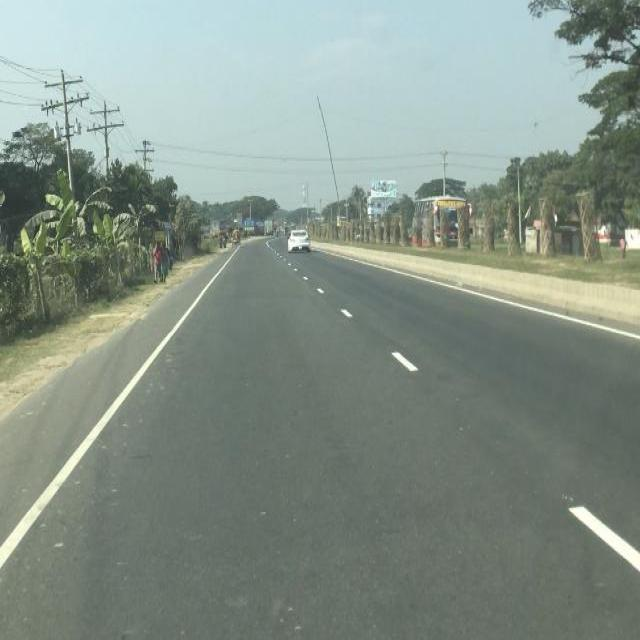bus: (412, 195, 472, 245)
car: (284, 226, 312, 252)
rickshaw: (230, 226, 240, 246)
